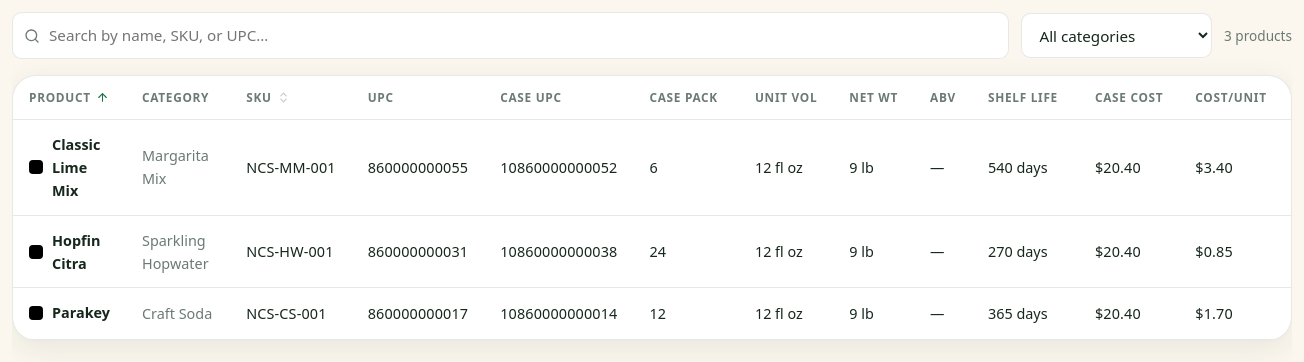
<ProductTable /> interactions › shows an empty state when nothing matches
Type "zzzzz" into the search field named "Search products" at (510, 36), box [12,12,1009,59]
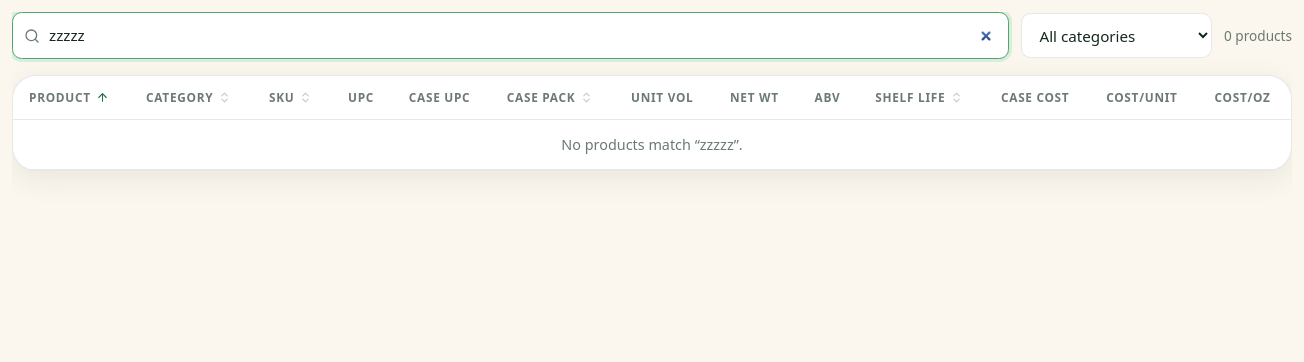
expect the text "No products match “zzzzz”." is shown: met, box [13,120,1291,169]
